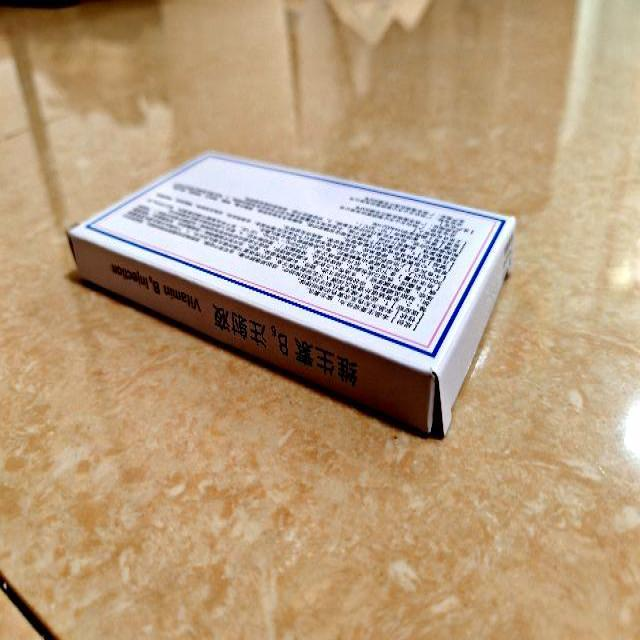box: (69, 152, 518, 438)
